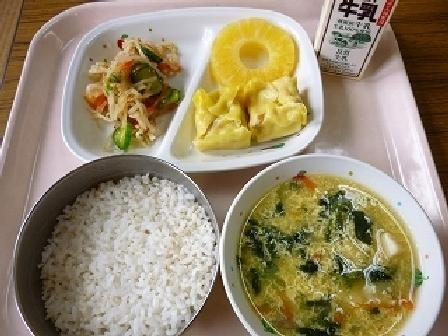Milk: (307, 0, 401, 76)
Rice: (20, 160, 214, 332)
Salad: (75, 25, 190, 149)
Soups: (224, 162, 440, 335)
manty: (188, 75, 310, 147)
pineapple: (204, 11, 295, 86)
